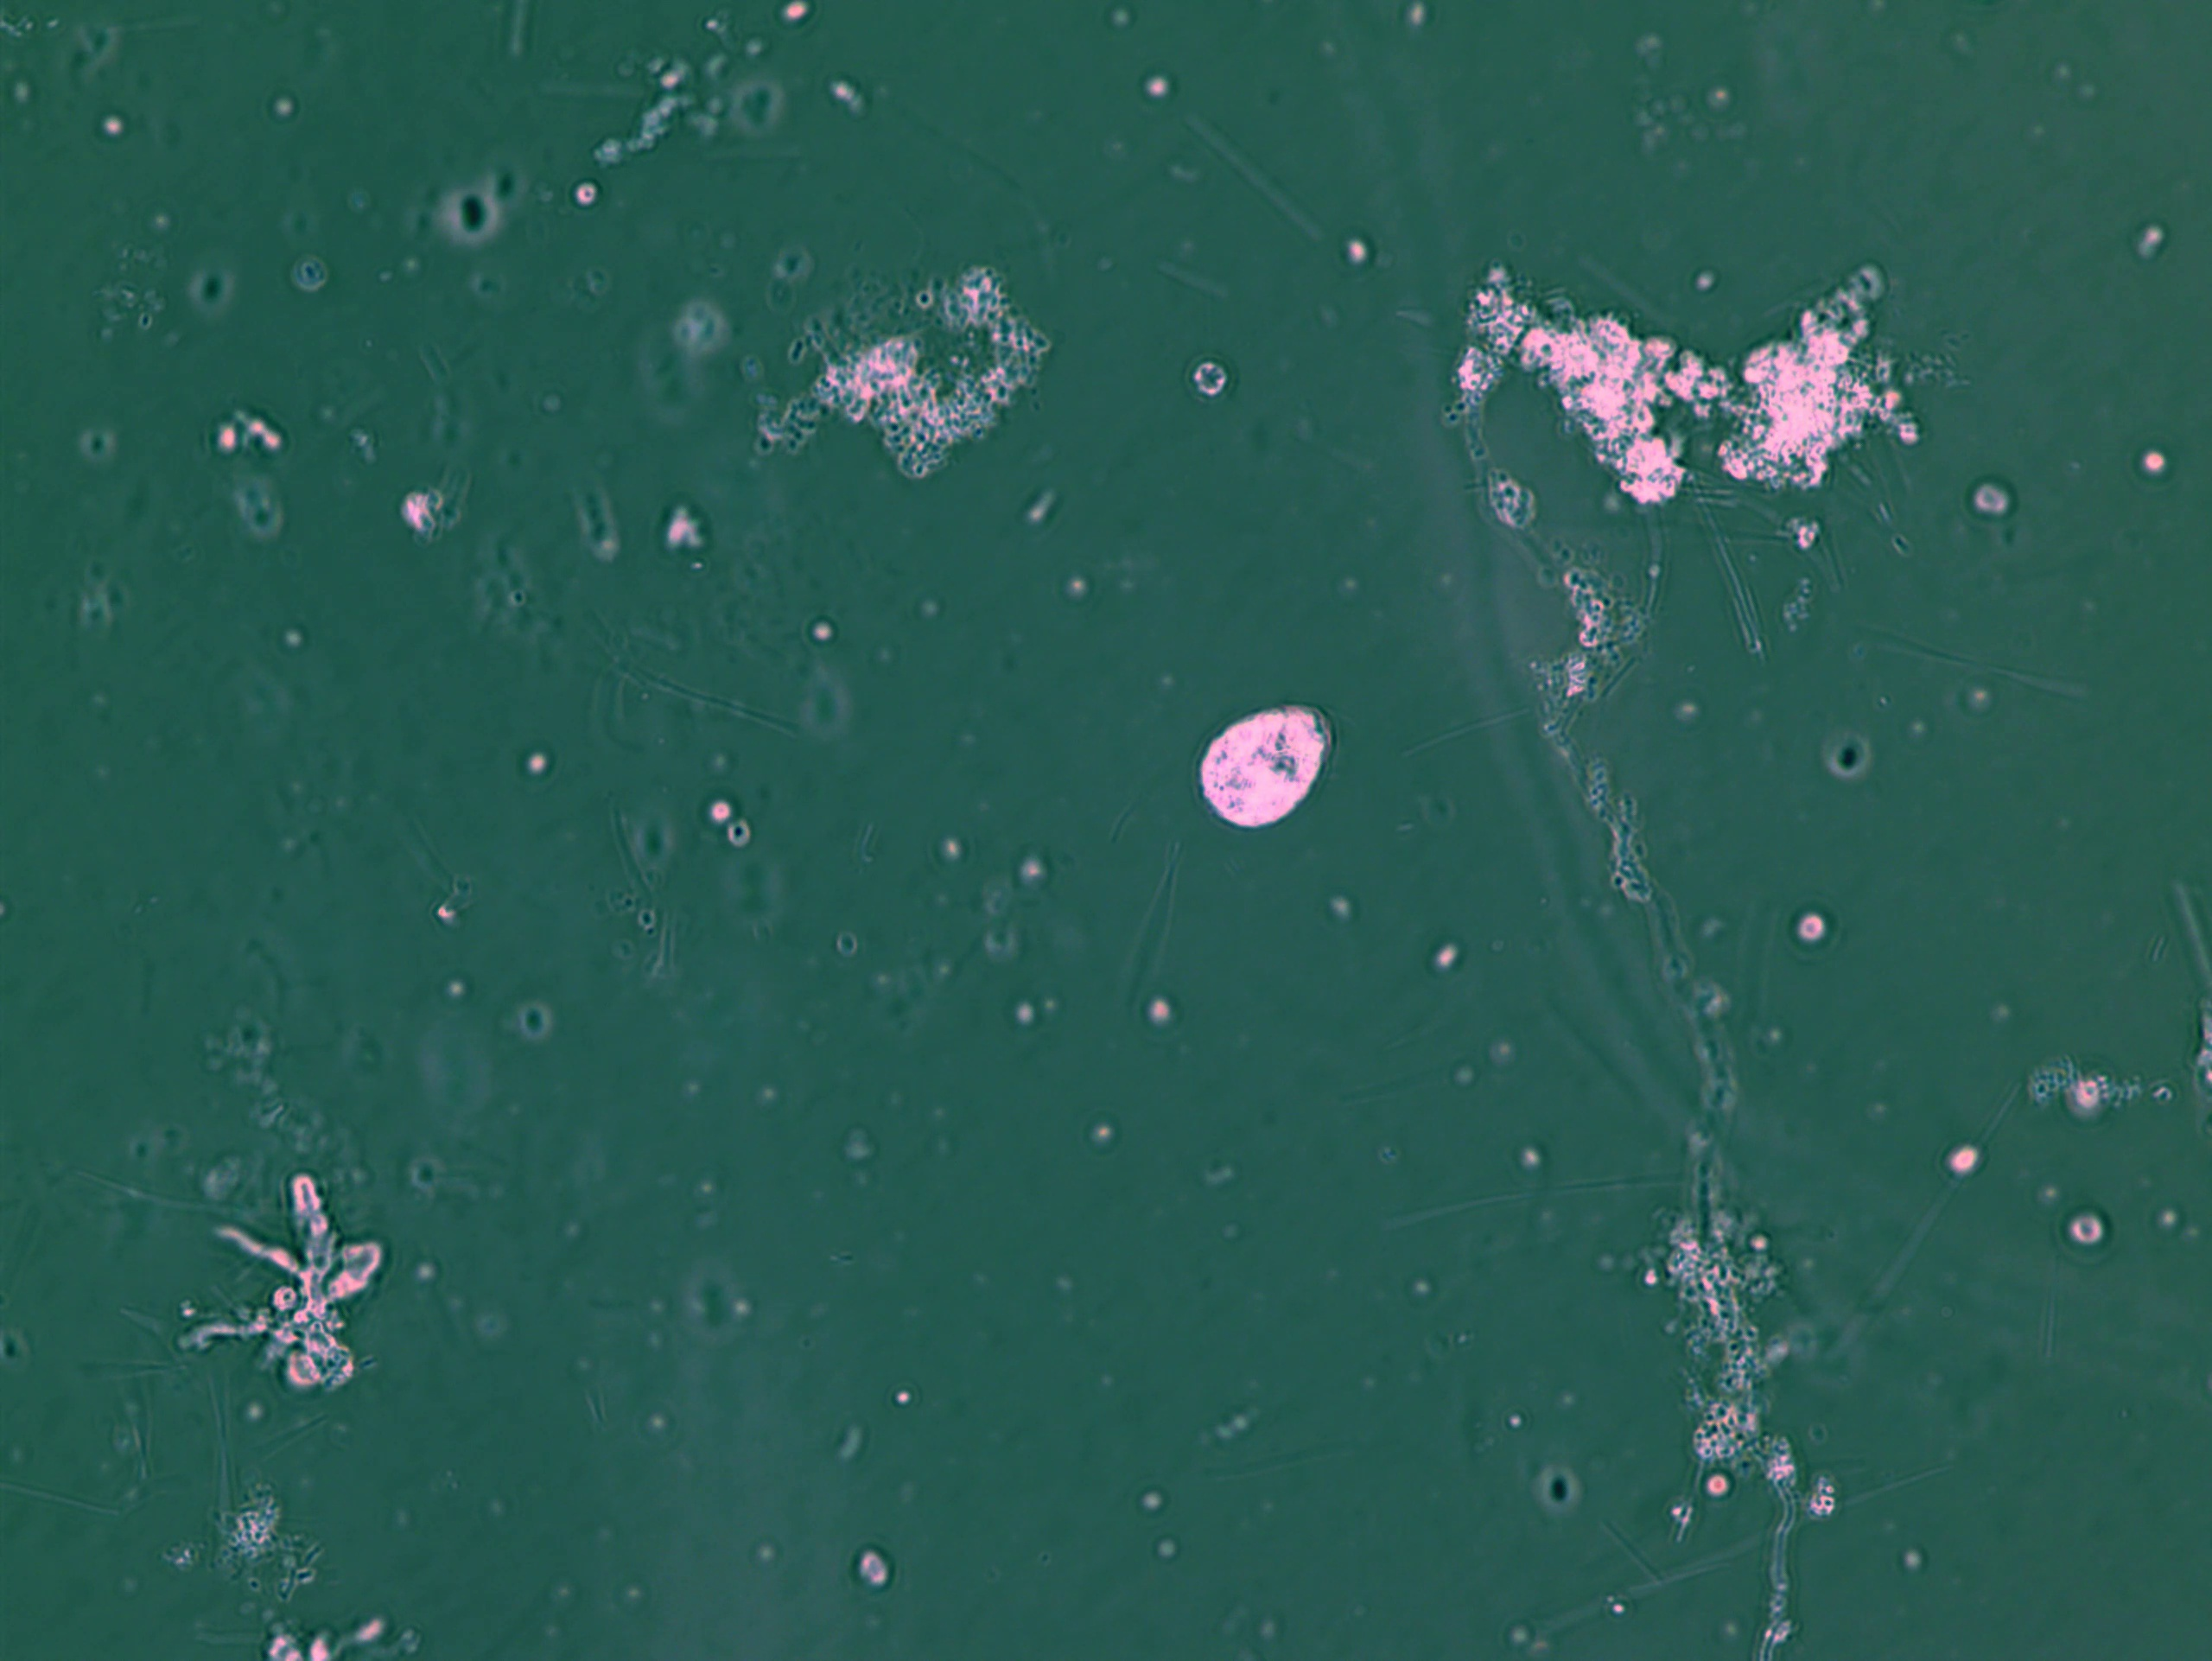depth:20: (1155, 668, 1390, 872)
